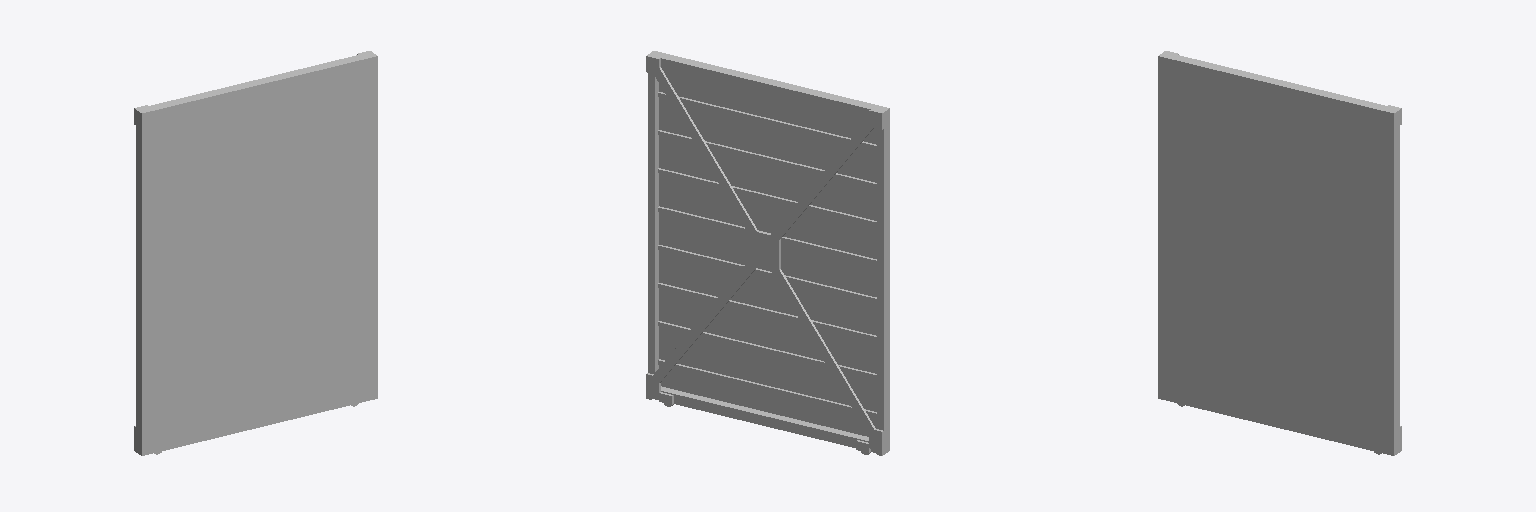
The model's file is f_door_l3.obj.
3 renders of one model, left to right at view 1: azimuth 30°, elevation 25°; view 2: azimuth 150°, elevation 25°; view 3: azimuth 330°, elevation 25°, orthographic.
Size of the model in its own units: 1067 by 1502 by 58.95.